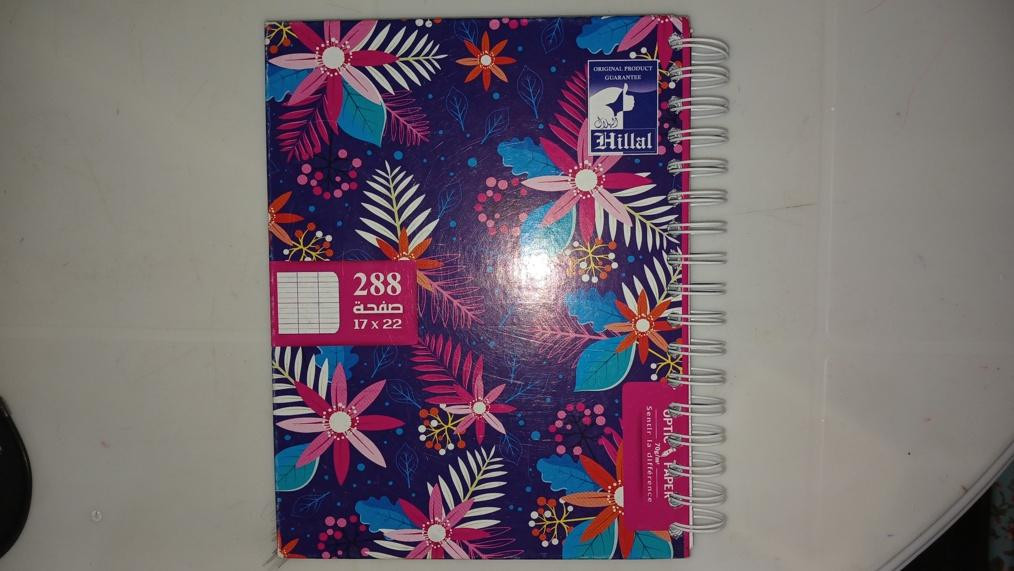notebook: (267, 16, 729, 562)
